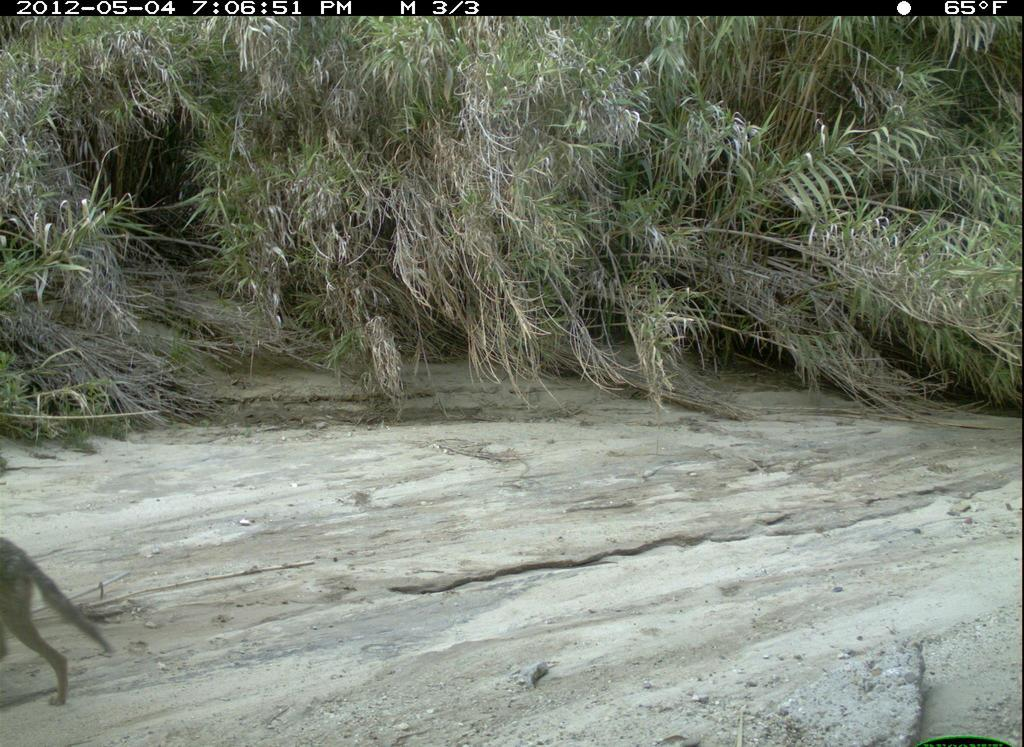coyote: (2, 533, 153, 729)
